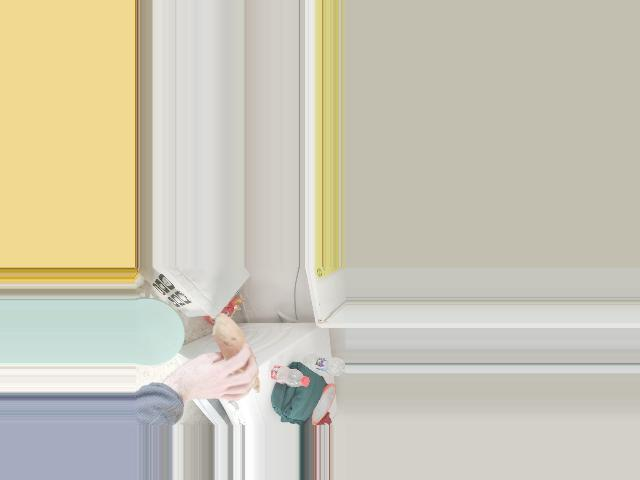sweet_potato: (213, 316, 260, 396)
